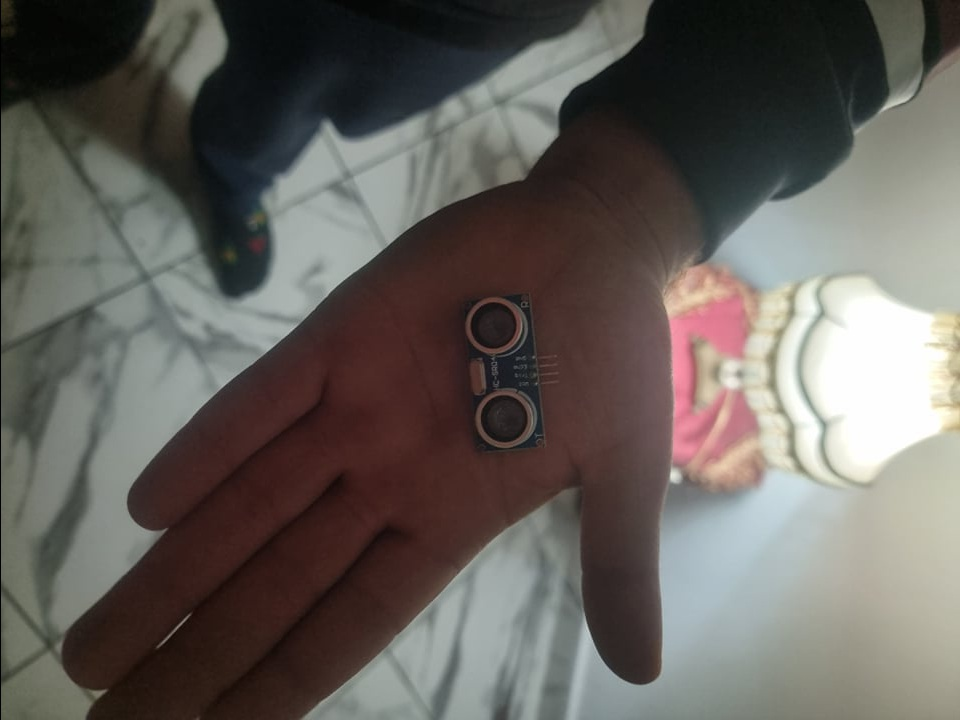SENSOR: (458, 287, 545, 459)
